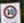limite 30: (2, 5, 17, 18)
